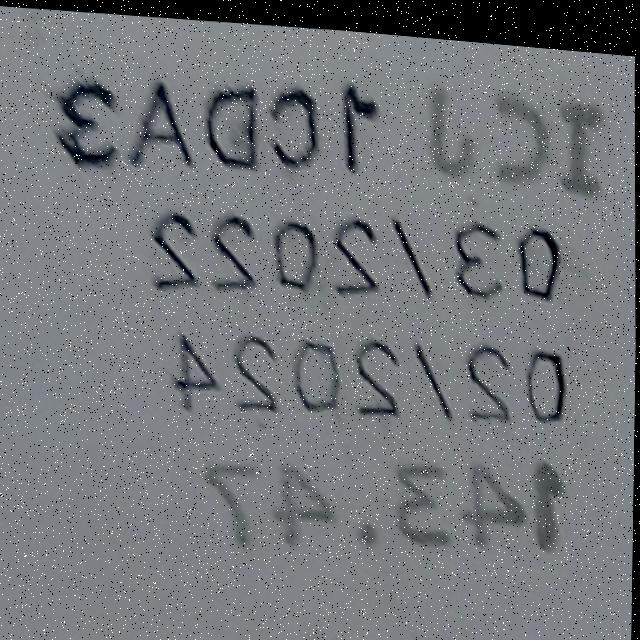sentence: (58, 74, 603, 185), (170, 327, 567, 424), (147, 207, 561, 293), (203, 450, 566, 545)
